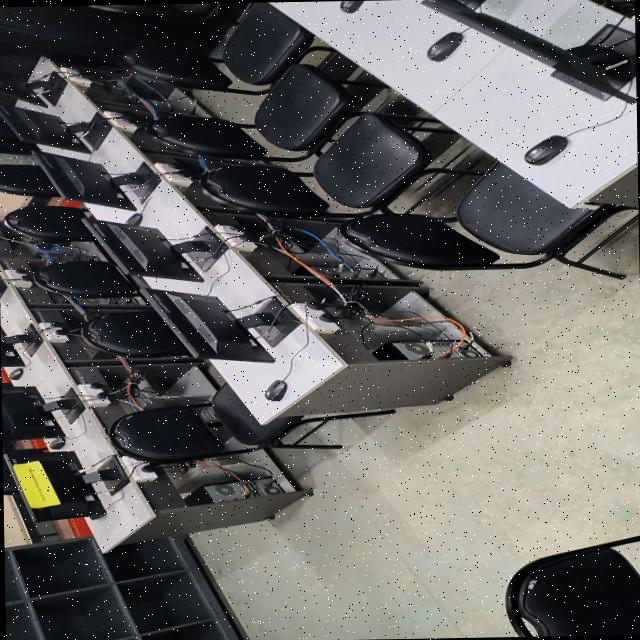Chair: (338, 177, 602, 274), (204, 118, 446, 208), (154, 66, 354, 159), (118, 5, 306, 82), (507, 536, 640, 636), (107, 392, 266, 461), (75, 308, 178, 356), (0, 202, 83, 242), (36, 260, 122, 298), (0, 158, 40, 201)
Cpu: (374, 332, 486, 364), (184, 478, 282, 502), (307, 260, 379, 280)
Monitor: (432, 0, 636, 102), (147, 284, 296, 360), (85, 214, 225, 280), (6, 451, 126, 514), (38, 148, 157, 210), (0, 104, 116, 152), (3, 376, 86, 441), (0, 72, 66, 105), (0, 325, 37, 366)
Mouse: (519, 131, 576, 164), (422, 28, 466, 62), (259, 374, 292, 404), (332, 0, 374, 14)
